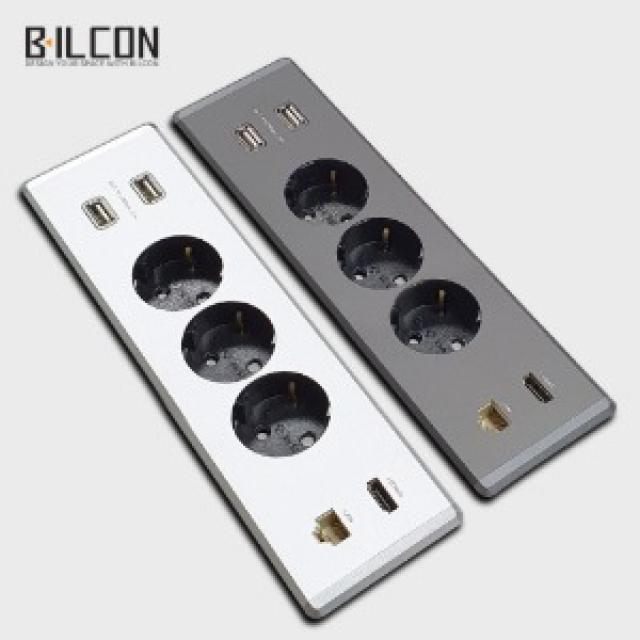typeb: (22, 45, 614, 627)
